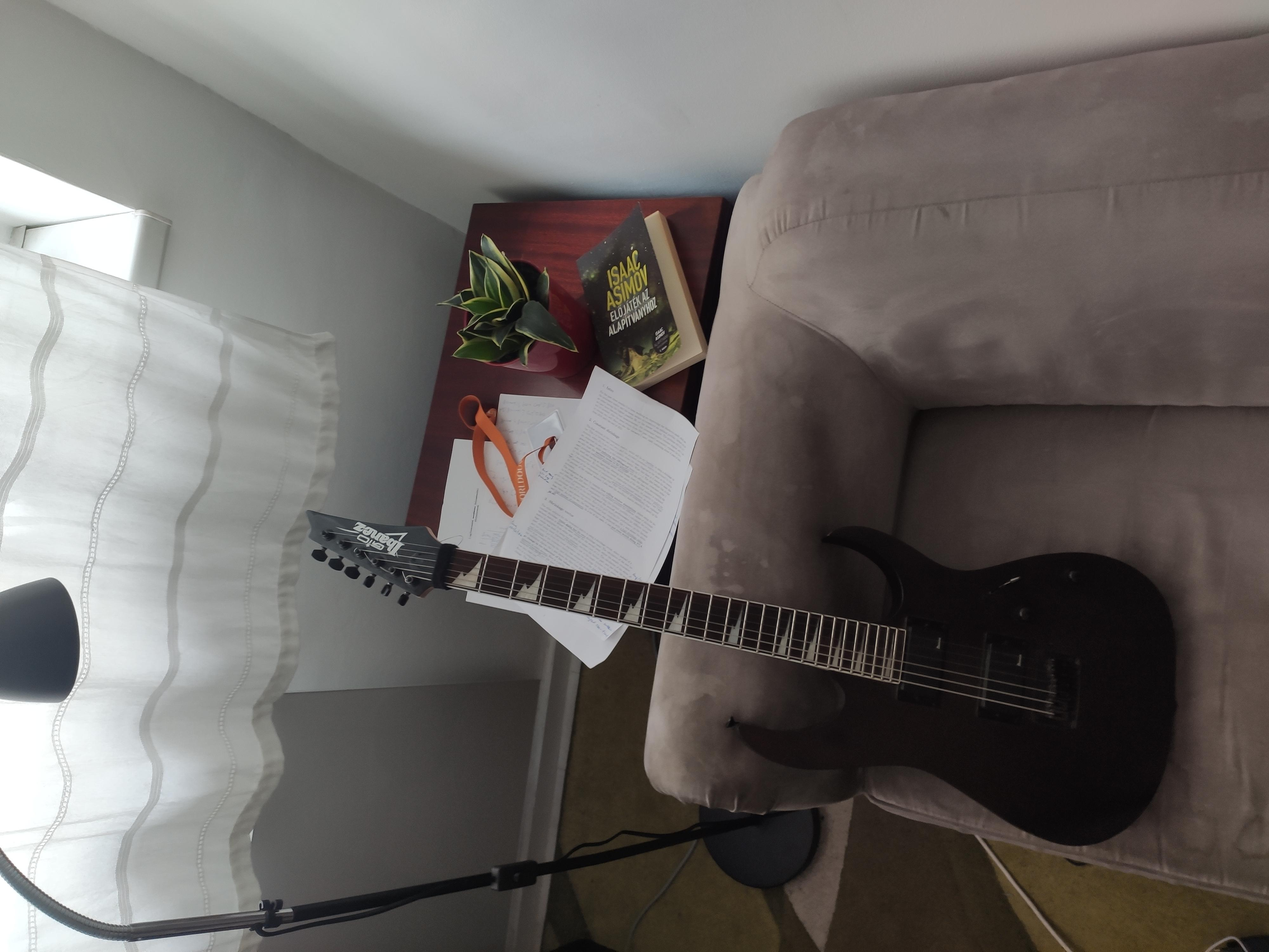acousticguitar: (137, 186, 593, 882)
